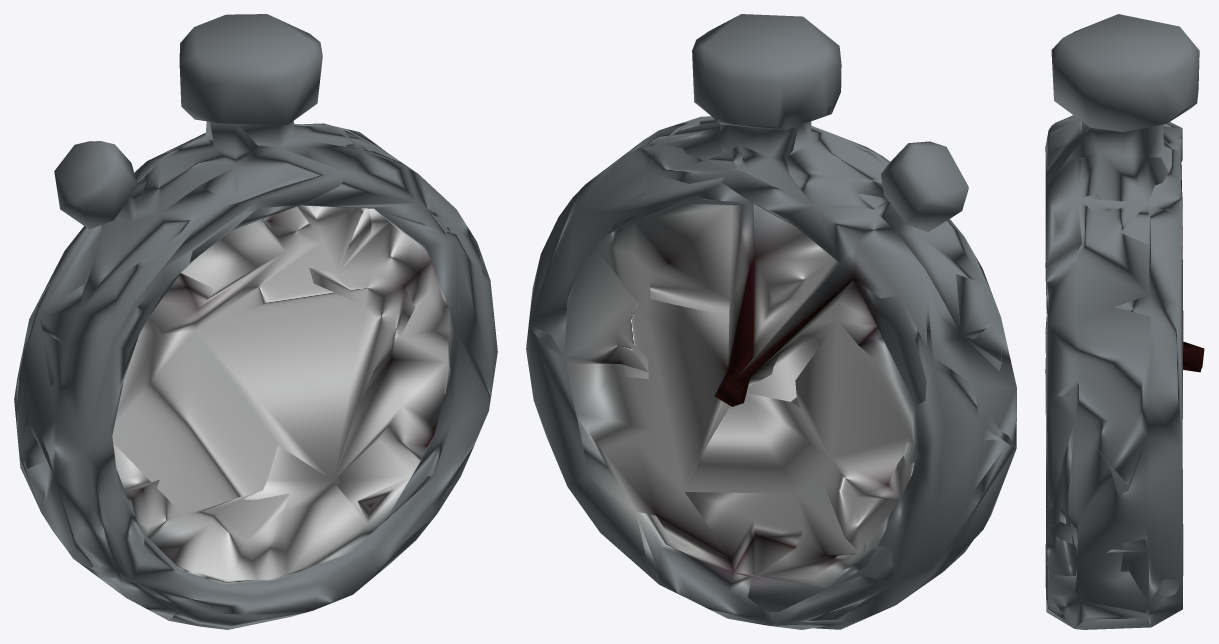
Rendered from gen3d-stopwatch-lod1.glb.
The picture shows the model from 3 angles, left to right: view 1: azimuth 30°, elevation 25°; view 2: azimuth 150°, elevation 25°; view 3: azimuth 270°, elevation 25°; orthographic projection. The views are drawn at different scales.
Parts seen in each view (by area): view 1: part_0; view 2: part_0; view 3: part_0.
Boxes of the visible parts, box(x1,y1,x2,y2) form: part_0: box(14, 14, 497, 629); part_0: box(526, 14, 1016, 629); part_0: box(1045, 14, 1204, 629).
Bounding box in the file's own units: 0.8194 × 0.9979 × 0.2547.
